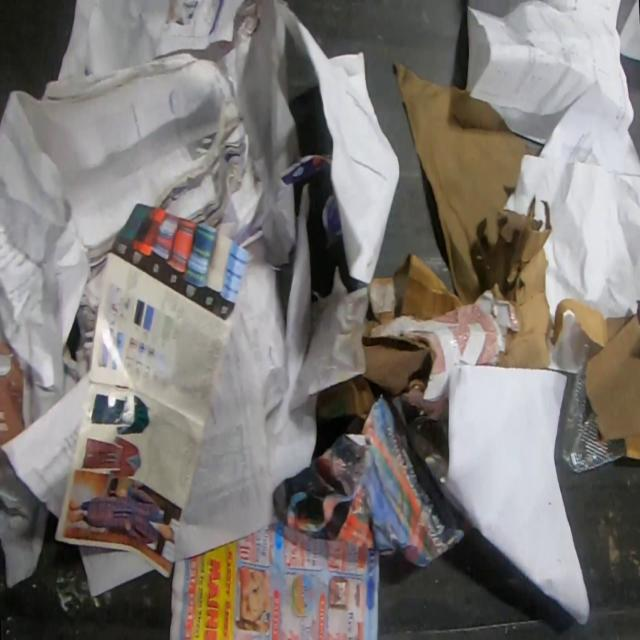cardboard: (490, 196, 608, 370), (370, 288, 520, 422), (362, 251, 464, 337), (361, 337, 430, 398), (317, 374, 378, 420), (624, 433, 640, 459)
rigid_plastic: (559, 330, 627, 473)
soft_plastic: (0, 445, 52, 590)
